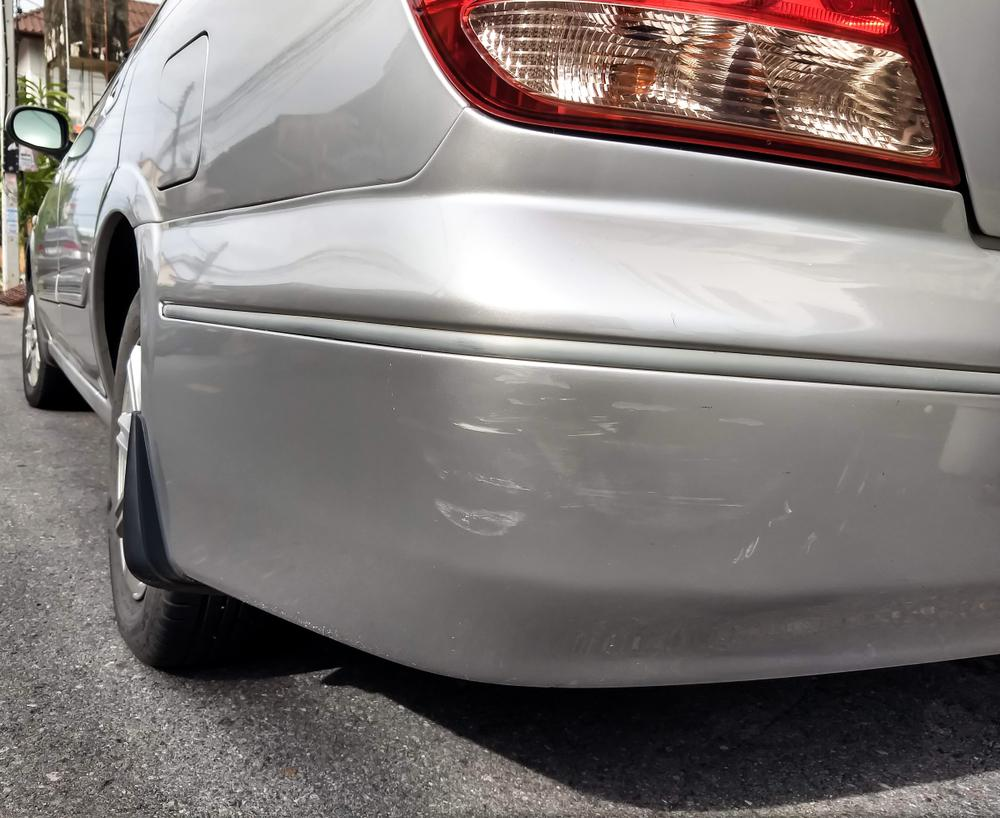scratch: (420, 363, 792, 565)
